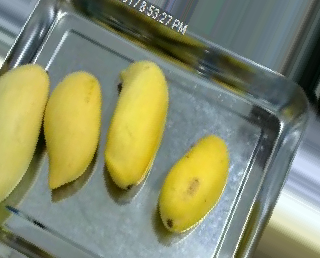Mango: (104, 61, 168, 189), (41, 70, 101, 189), (158, 136, 230, 233), (0, 64, 49, 203)
